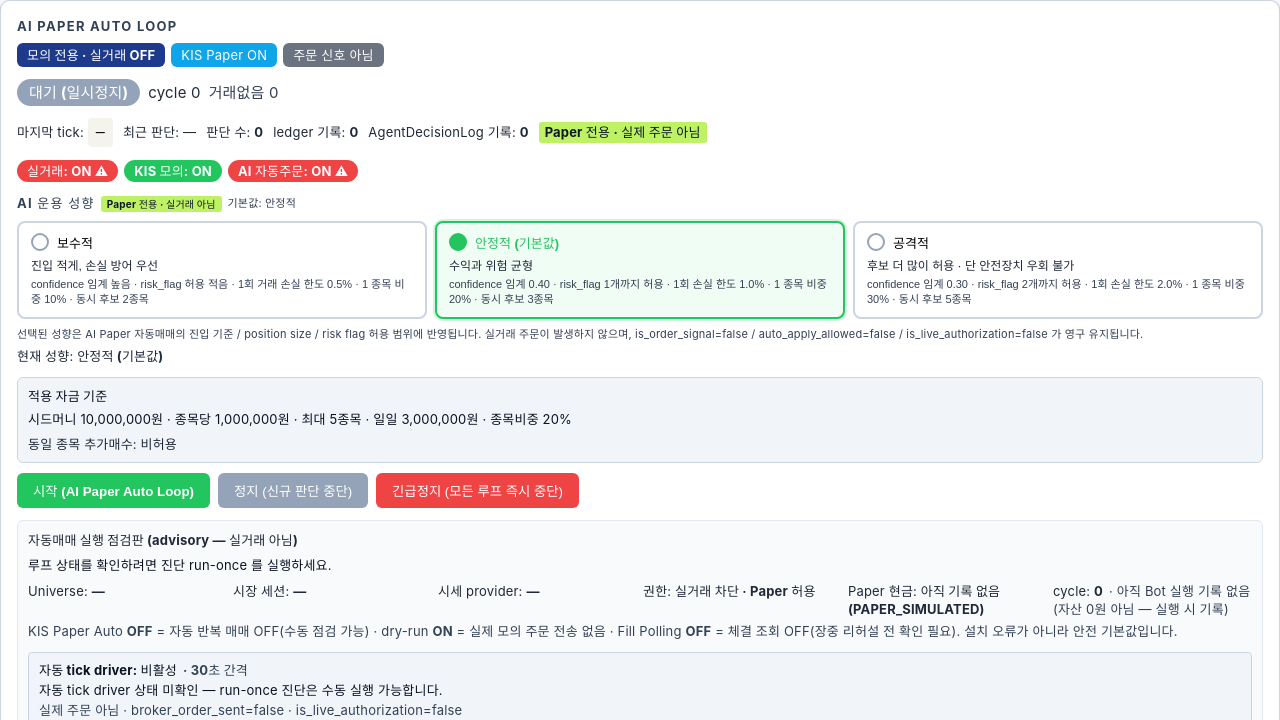
Test case: <AutoPaperLoopCard> › #4-11 AI Paper E2E UI flow › E2E: start button → RUNNING → consumer strip carries BUY label
시작 버튼 클릭.
What coordinates should you click on to do the following:
click the button with test id "btn-start-auto-paper"
I would click on:
 (114, 491)
Its box is left=17, top=473, right=210, bottom=508.
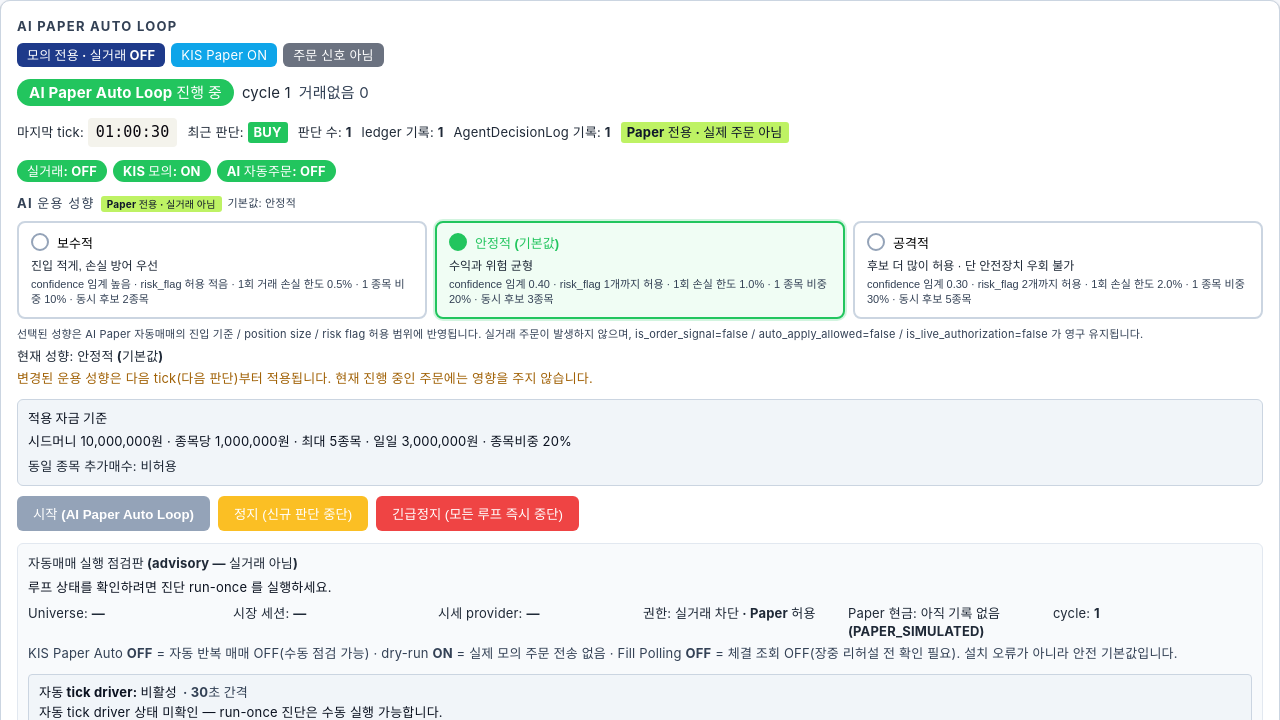
Check: the text "BUY" is shown, box left=248, top=122, right=288, bottom=143
Check: the element with test id "consumer-decision-count" shows "1", box left=346, top=124, right=352, bottom=140
Check: the element with test id "consumer-ledger-events" shows "1", box left=438, top=124, right=444, bottom=140
